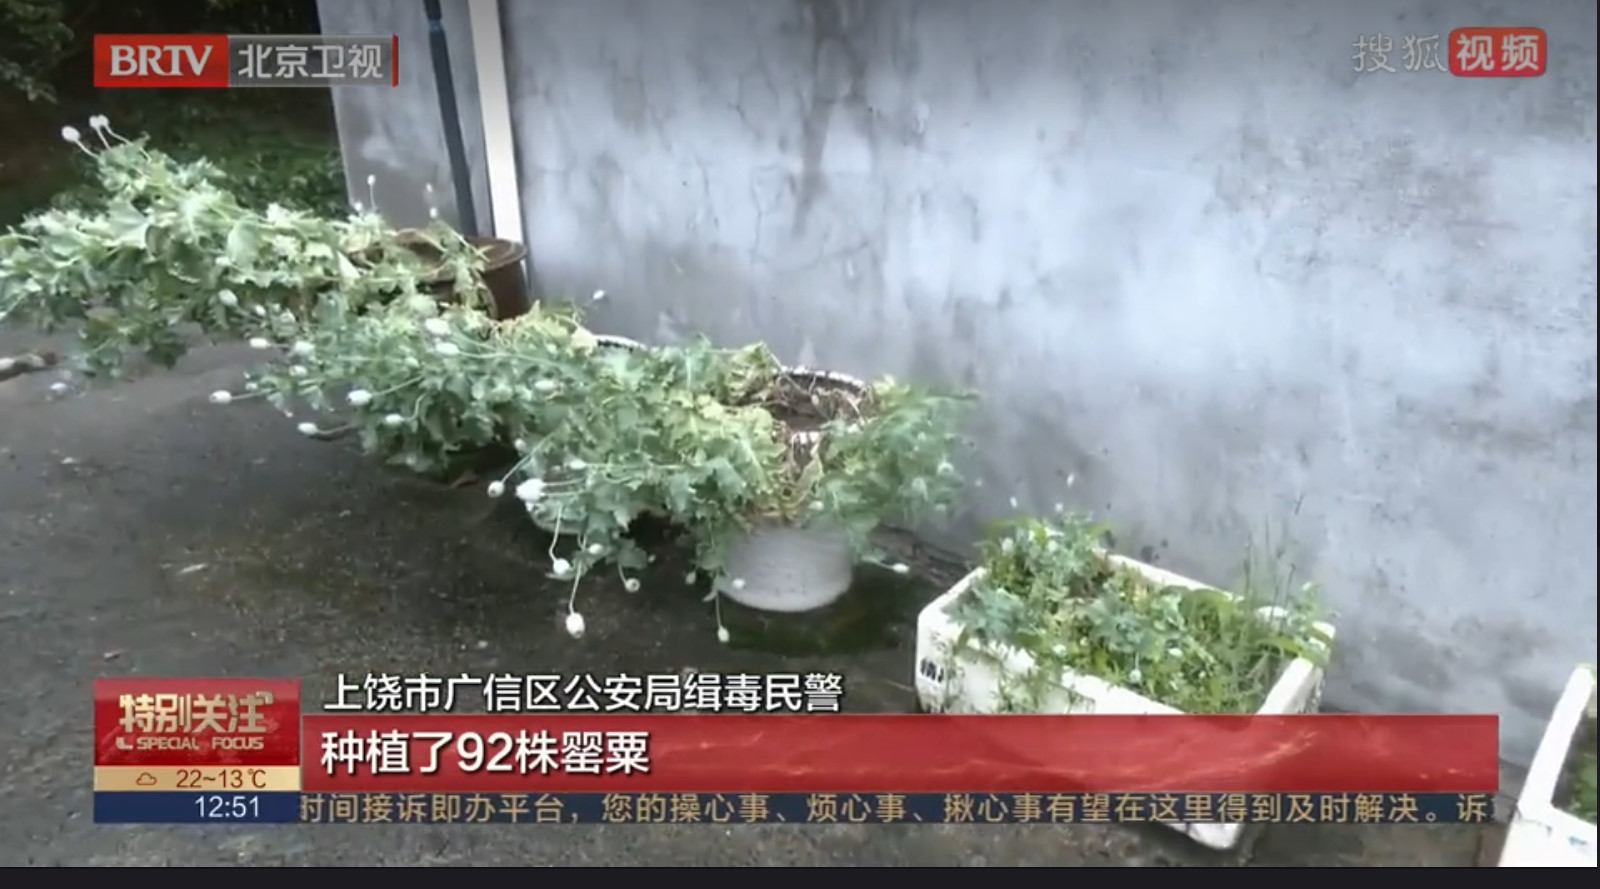Poppy: (225, 281, 946, 615), (881, 478, 1353, 715), (14, 109, 351, 357)
